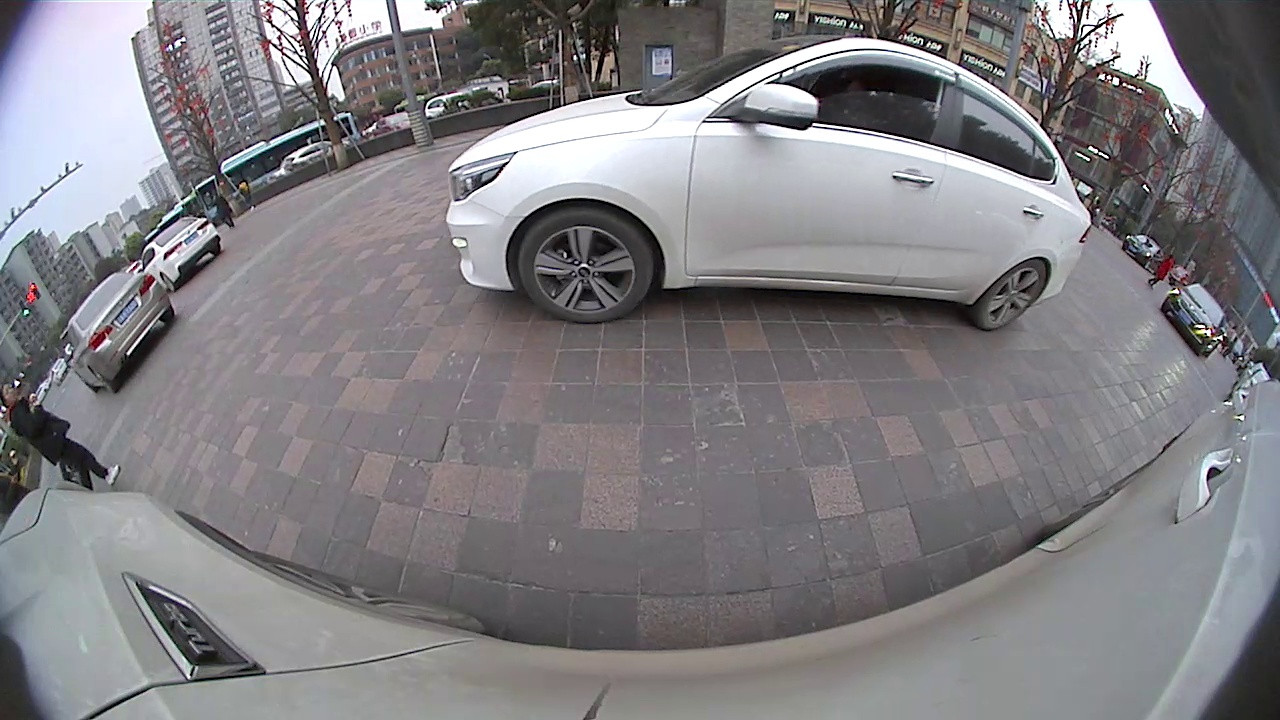bus: (192, 109, 363, 228)
car: (445, 34, 1094, 334), (65, 269, 177, 395), (139, 214, 223, 292), (1160, 281, 1229, 359)
front: (514, 205, 657, 327)
person: (1, 380, 104, 430)
rear: (976, 256, 1050, 333)
